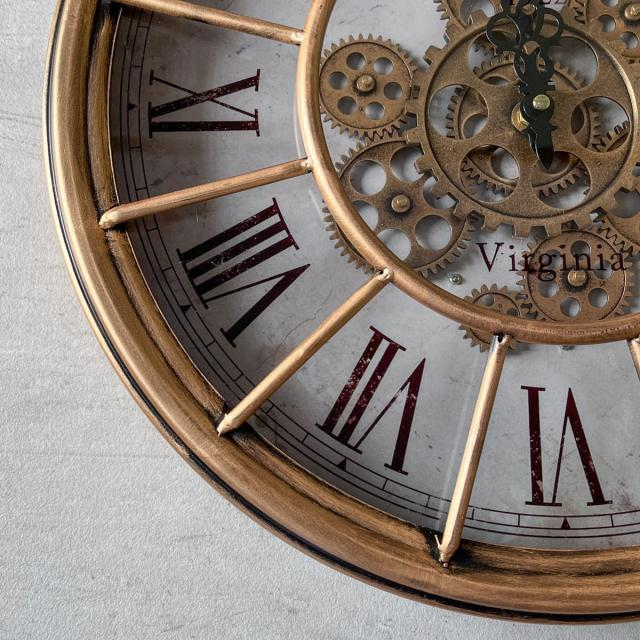clock: (0, 300, 533, 639)
